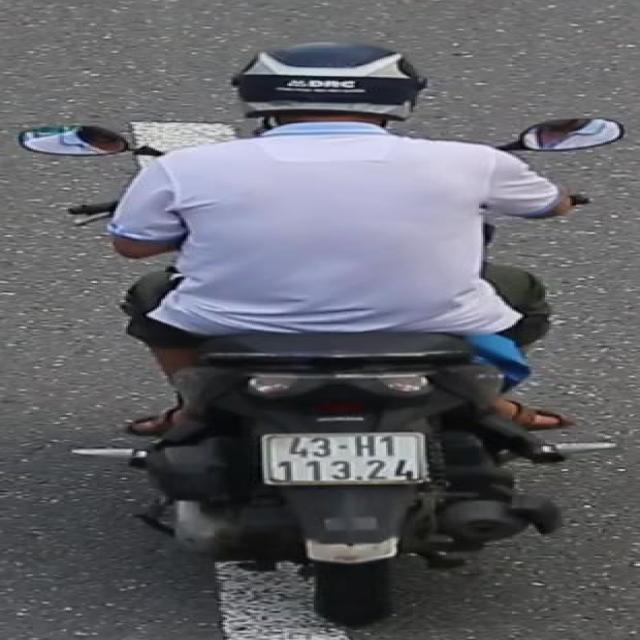LP: (257, 428, 437, 491)
helmet: (230, 36, 431, 130)
